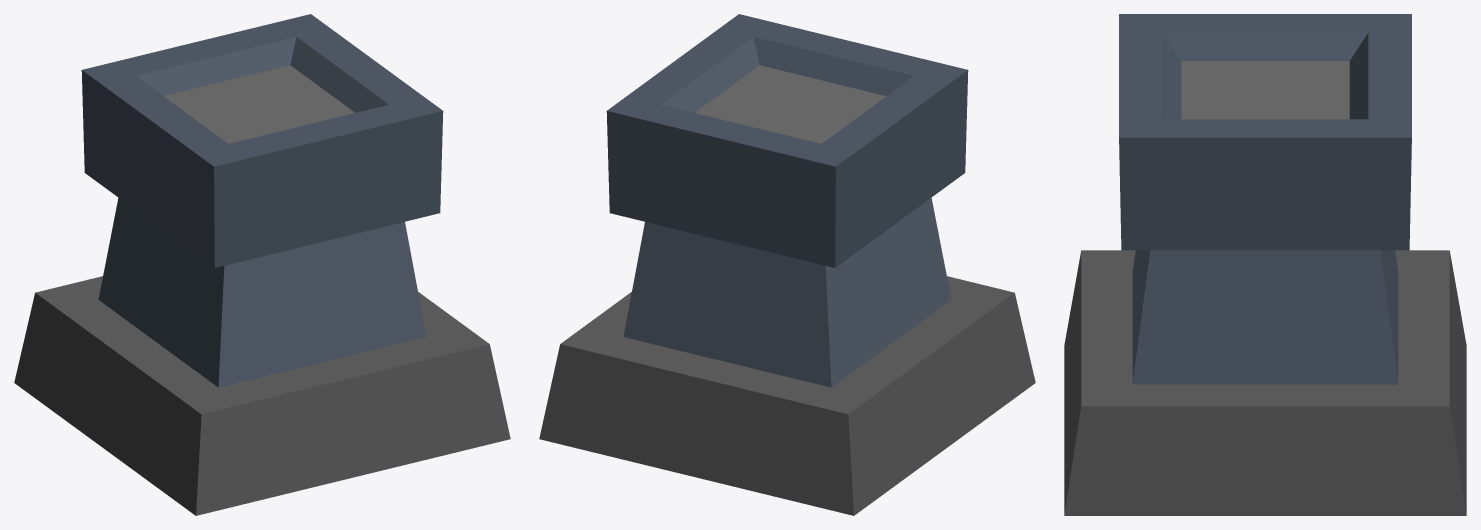
The model's file is Chimney_3_C_3.fbx.
3 views of the same model, side by side, from view 1: azimuth 30°, elevation 25°; view 2: azimuth 150°, elevation 25°; view 3: azimuth 270°, elevation 25° (orthographic). The views are drawn at different scales.
Visible parts, largest first — view 1: Chimney_3_C_3; view 2: Chimney_3_C_3; view 3: Chimney_3_C_3.
Part boxes in pixels (bbox=[...]): Chimney_3_C_3: bbox=[14, 14, 510, 515]; Chimney_3_C_3: bbox=[539, 14, 1035, 515]; Chimney_3_C_3: bbox=[1064, 14, 1466, 515].
Size of the model in its own units: 61.13 by 59.5 by 61.13.
